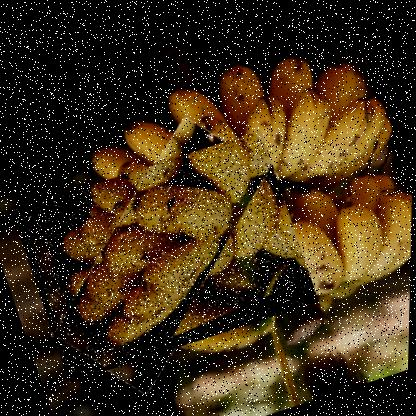banana: (9, 119, 323, 388)
